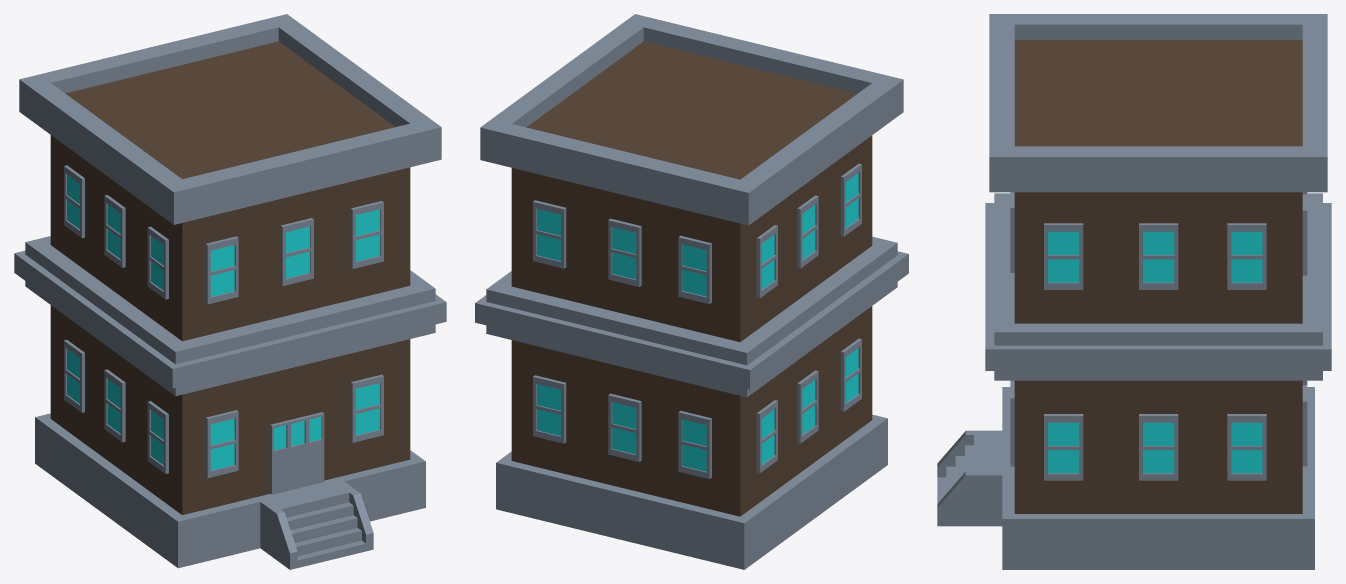
Rendered from Building3_2.fbx.
3 views of the same model, side by side, from view 1: azimuth 30°, elevation 25°; view 2: azimuth 150°, elevation 25°; view 3: azimuth 270°, elevation 25° (orthographic). The views are drawn at different scales.
Parts seen in each view (by area): view 1: Building3_2; view 2: Building3_2; view 3: Building3_2.
Part boxes in pixels (x1,y1,x2,y2): Building3_2: (14,14,446,569); Building3_2: (475,14,908,569); Building3_2: (937,14,1331,569).
Bounding box in the file's own units: 2173 × 2898 × 2476.
